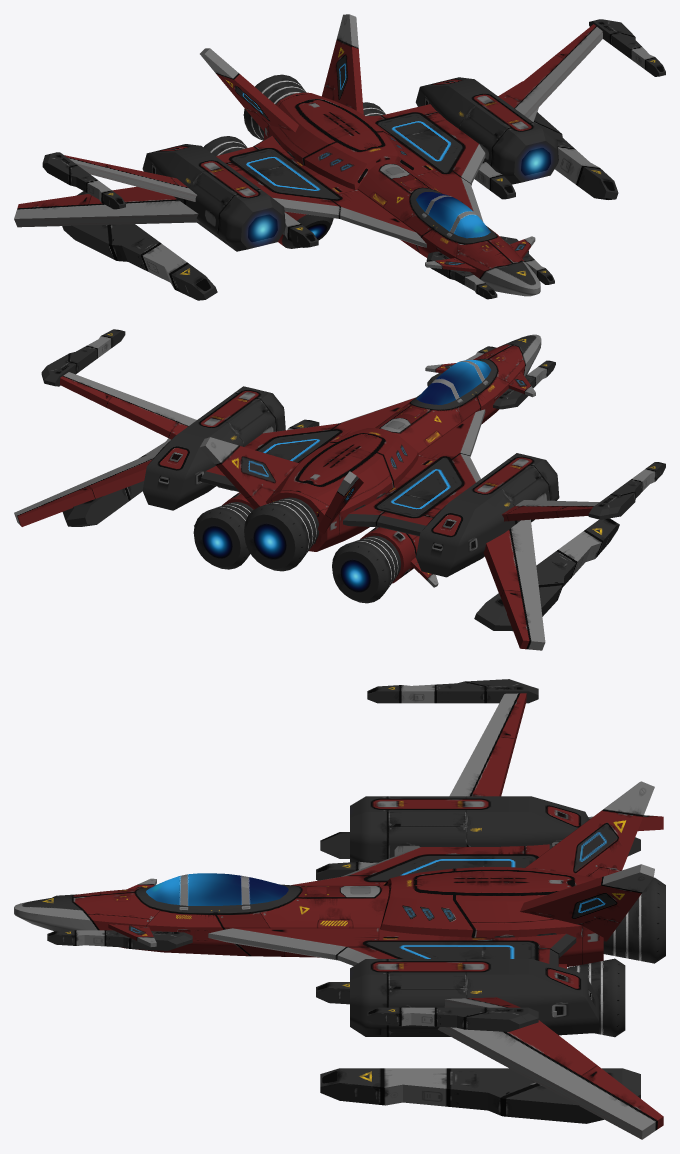
Rendered from Spaceship.fbx.
3 renders of one model, top to bottom at view 1: azimuth 30°, elevation 25°; view 2: azimuth 150°, elevation 25°; view 3: azimuth 270°, elevation 25°, orthographic. The views are drawn at different scales.
Parts seen in each view (by area): view 1: StarSparrow_Core_New, StarSparrow_Plasma_002, StarSparrow_Plasma_003, StarSparrow_Wing_002, StarSparrow_Wing_001, StarSparrow_Fin_004, StarSparrow_Weapon_002, StarSparrow_Fin_001, StarSparrow_Tail_001, StarSparrow_Tail_002, StarSparrow_Weapon_011, StarSparrow_Fin_003 (+10 smaller); view 2: StarSparrow_Core_New, StarSparrow_Plasma_002, StarSparrow_Plasma_003, StarSparrow_Wing_002, StarSparrow_Fin_004, StarSparrow_Thruster_006, StarSparrow_Weapon_002, StarSparrow_Thruster_005, StarSparrow_Wing_001, StarSparrow_Tail_001, StarSparrow_Thruster_007, StarSparrow_Fin_001 (+8 smaller); view 3: StarSparrow_Core_New, StarSparrow_Plasma_003, StarSparrow_Plasma_002, StarSparrow_Weapon_011, StarSparrow_Wing_001, StarSparrow_Fin_002, StarSparrow_Tail_002, StarSparrow_Tail_001, StarSparrow_Wing_002, StarSparrow_Fin_003, StarSparrow_Weapon_006, StarSparrow_Thruster_006 (+6 smaller).
Boxes of the visible parts, x1,y1,x2,y2 form: StarSparrow_Core_New: (264, 92, 540, 296); StarSparrow_Plasma_002: (142, 144, 285, 251); StarSparrow_Plasma_003: (415, 77, 558, 184); StarSparrow_Wing_002: (216, 136, 426, 247); StarSparrow_Wing_001: (366, 104, 485, 221); StarSparrow_Fin_004: (14, 186, 199, 227); StarSparrow_Weapon_002: (62, 191, 217, 300); StarSparrow_Fin_001: (502, 24, 602, 118); StarSparrow_Tail_001: (321, 14, 363, 114); StarSparrow_Tail_002: (200, 48, 298, 132); StarSparrow_Weapon_011: (533, 112, 618, 199); StarSparrow_Fin_003: (64, 155, 197, 201); StarSparrow_Core_New: (266, 334, 541, 551); StarSparrow_Plasma_002: (416, 453, 559, 577); StarSparrow_Plasma_003: (142, 386, 285, 510); StarSparrow_Wing_002: (343, 409, 485, 536); StarSparrow_Fin_004: (483, 519, 545, 650); StarSparrow_Thruster_006: (244, 497, 319, 571); StarSparrow_Weapon_002: (474, 518, 619, 631); StarSparrow_Thruster_005: (332, 535, 401, 603); StarSparrow_Wing_001: (201, 397, 415, 491); StarSparrow_Tail_001: (200, 437, 298, 508); StarSparrow_Thruster_007: (193, 502, 253, 569); StarSparrow_Fin_001: (60, 372, 196, 439); StarSparrow_Core_New: (14, 867, 603, 966); StarSparrow_Plasma_003: (350, 959, 598, 1036); StarSparrow_Plasma_002: (350, 796, 589, 862); StarSparrow_Weapon_011: (320, 1068, 640, 1123); StarSparrow_Wing_001: (208, 928, 576, 1016); StarSparrow_Fin_002: (438, 1020, 663, 1139); StarSparrow_Tail_002: (525, 781, 654, 878); StarSparrow_Tail_001: (520, 864, 654, 941); StarSparrow_Wing_002: (291, 844, 553, 885); StarSparrow_Fin_003: (449, 693, 526, 796); StarSparrow_Weapon_006: (367, 1007, 538, 1031); StarSparrow_Thruster_006: (603, 877, 665, 963).
Bounding box in the file's own units: 1340 × 310 × 1078.
1 material, 1 textured.
